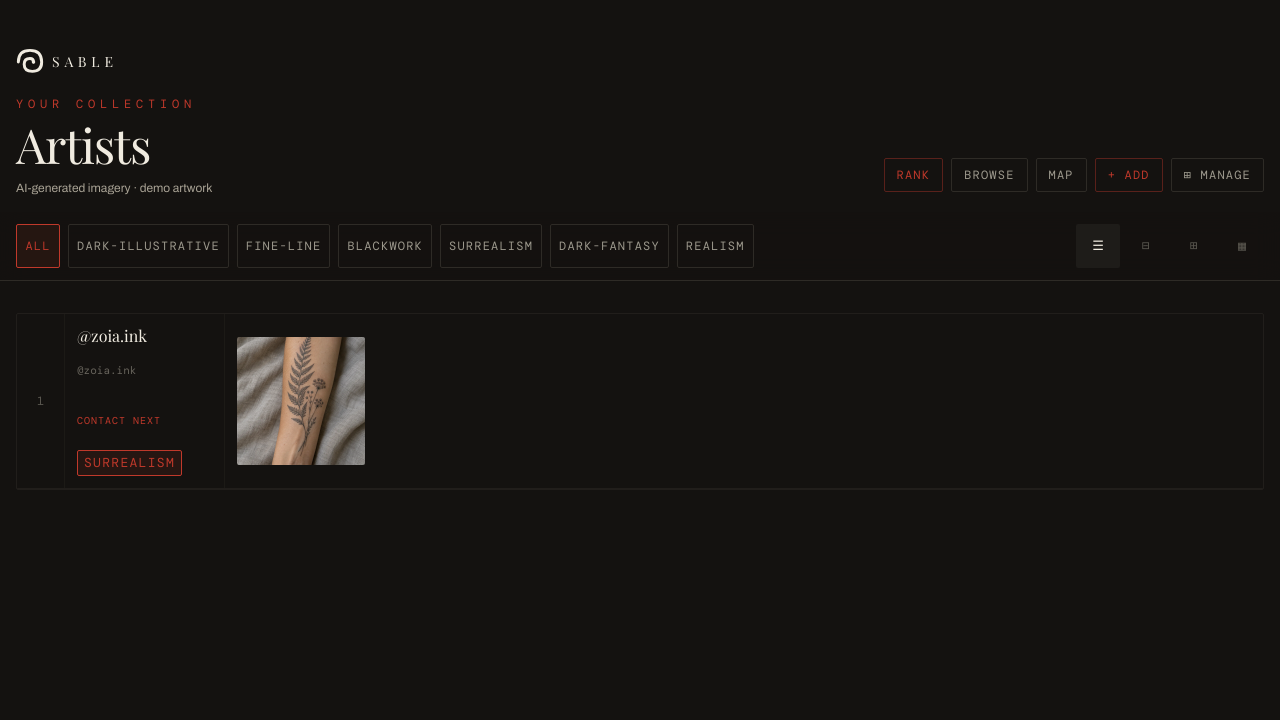
Gallery manage mode › keeps the generated-art notice visible inside Rank
Step 1. Click the button "Rank" → (913, 175), box [884,158,943,192]
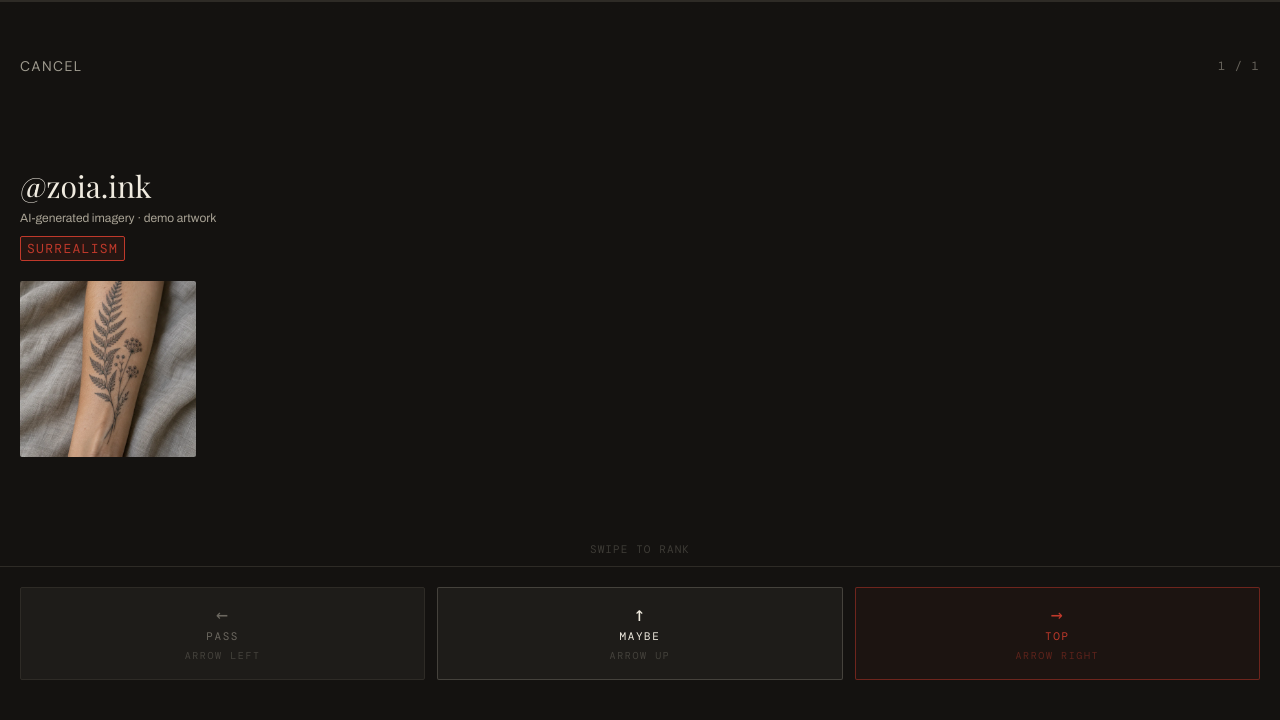
Expected: the text "AI-generated imagery · demo artwork" is shown, [20,211,216,225]
